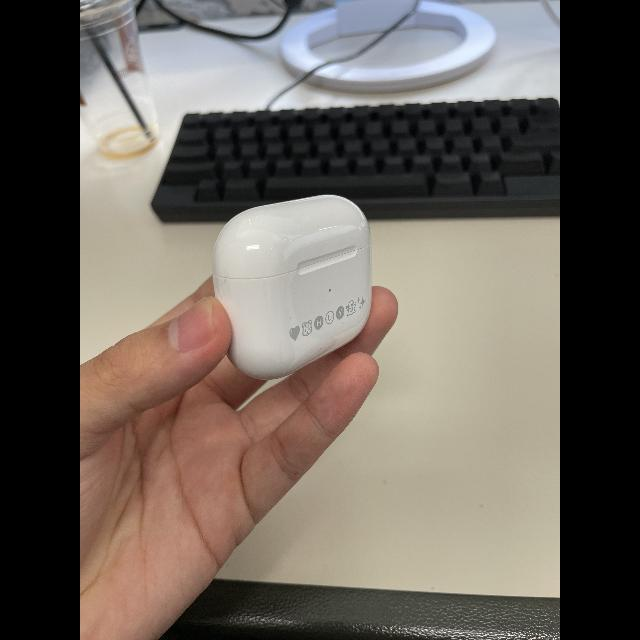airpod3: (190, 178, 394, 384)
